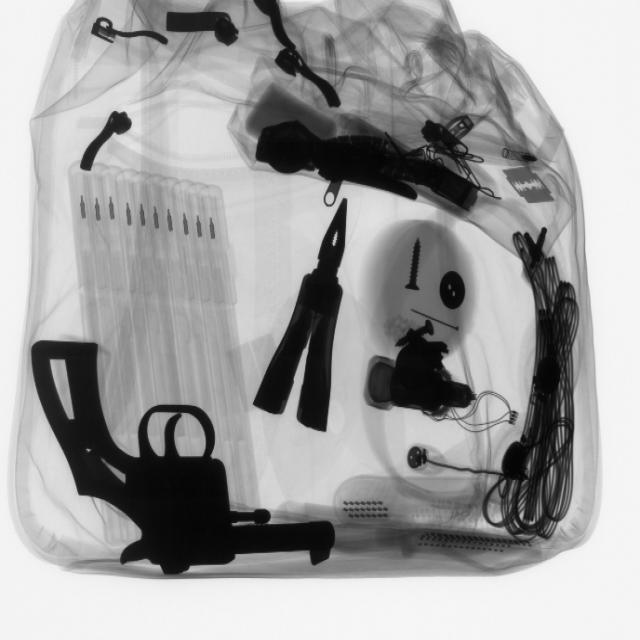BLADE: (504, 164, 558, 210)
GUN: (31, 337, 342, 571)
SCREW: (394, 234, 440, 302)
